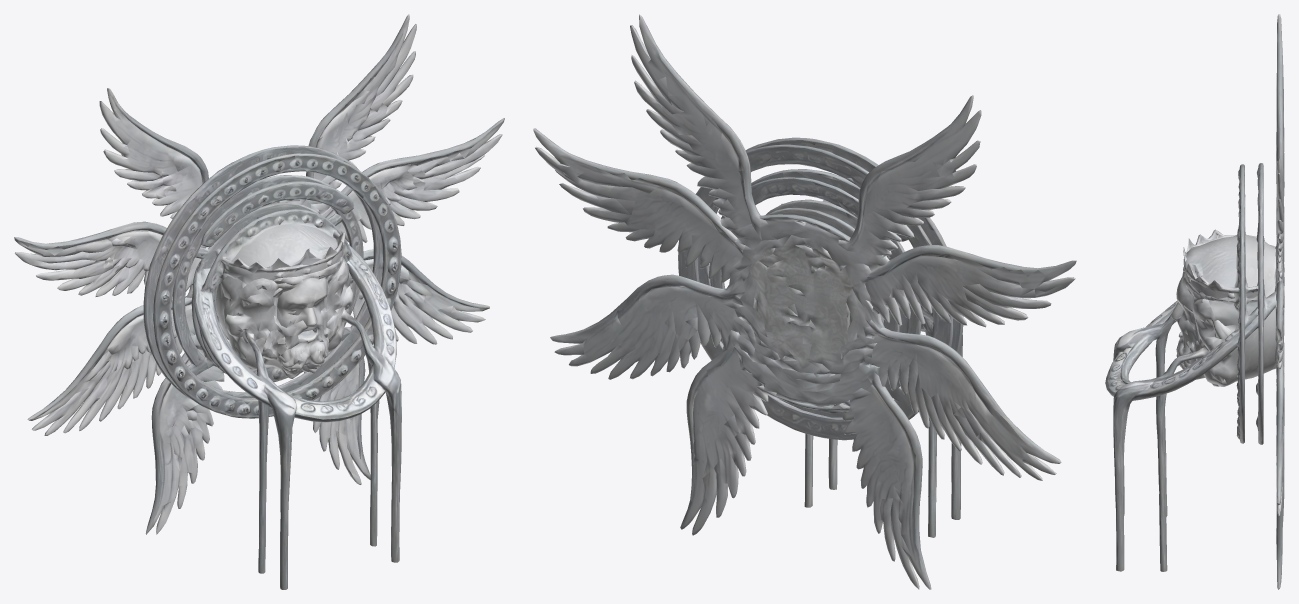
Rendered from choir.glb.
3 renders of one model, left to right at view 1: azimuth 30°, elevation 25°; view 2: azimuth 150°, elevation 25°; view 3: azimuth 270°, elevation 25°, orthographic. The views are drawn at different scales.
Visible parts, largest first — view 1: Mesh; view 2: Mesh; view 3: Mesh.
Boxes of the visible parts, x1,y1,x2,y2 form: Mesh: (14,14,504,589); Mesh: (533,14,1076,589); Mesh: (1105,14,1284,589).
Size of the model in its own units: 1.9 by 1.72 by 0.612.
1 material, 1 textured.
